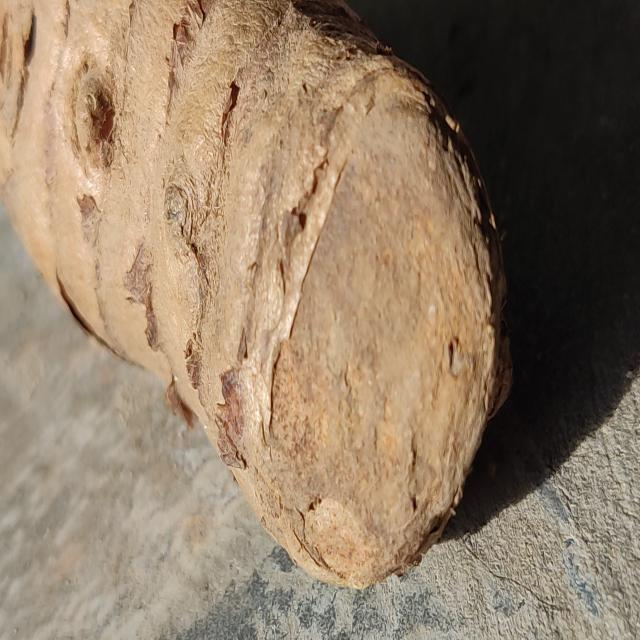ginger: (2, 0, 507, 537)
